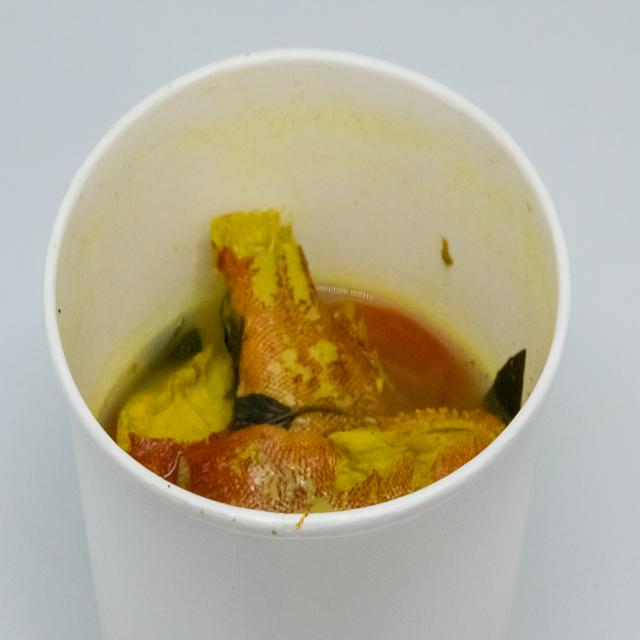Gulai-Ikan-Mas: (103, 192, 537, 526)
